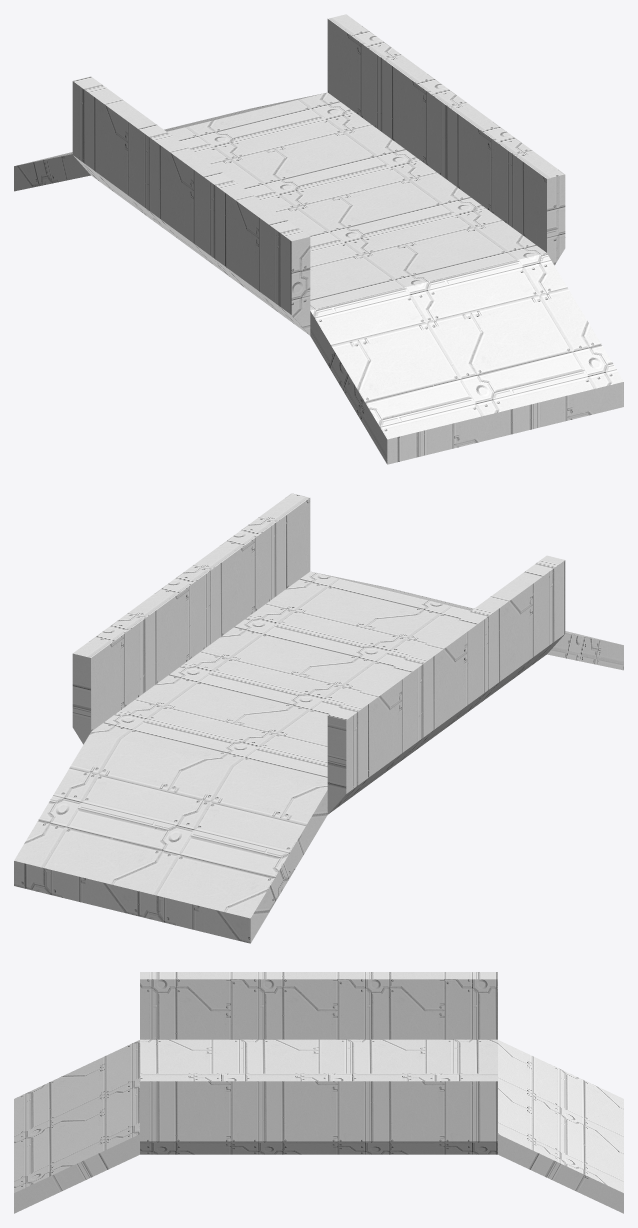
The model's file is Bridge.fbx.
3 renders of one model, top to bottom at view 1: azimuth 30°, elevation 25°; view 2: azimuth 150°, elevation 25°; view 3: azimuth 270°, elevation 25°, orthographic. The views are drawn at different scales.
Parts seen in each view (by area): view 1: Bridge; view 2: Bridge; view 3: Bridge.
Boxes of the visible parts, <box> form: Bridge: <box>14,14,623,464</box>; Bridge: <box>14,493,623,943</box>; Bridge: <box>14,972,623,1213</box>.
Bounding box in the file's own units: 402 × 240 × 949.
Materials: 1 (1 with a texture image).
